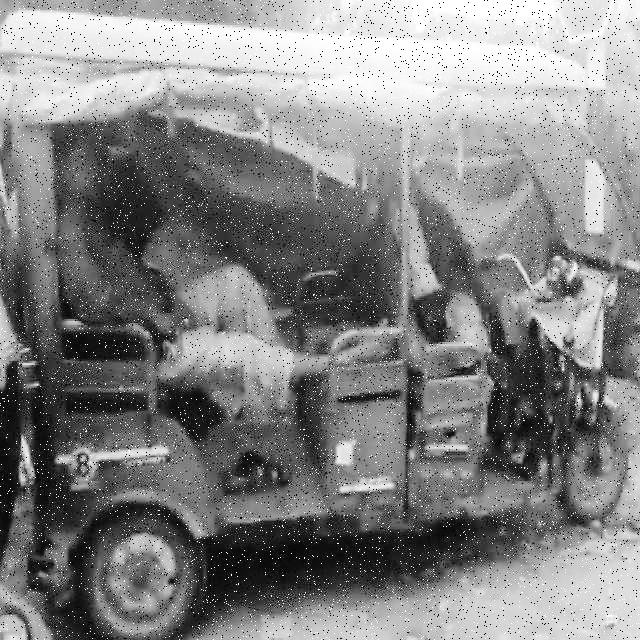Toto: (0, 10, 640, 632)
